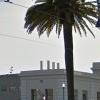Palm tree: (24, 3, 96, 99)
